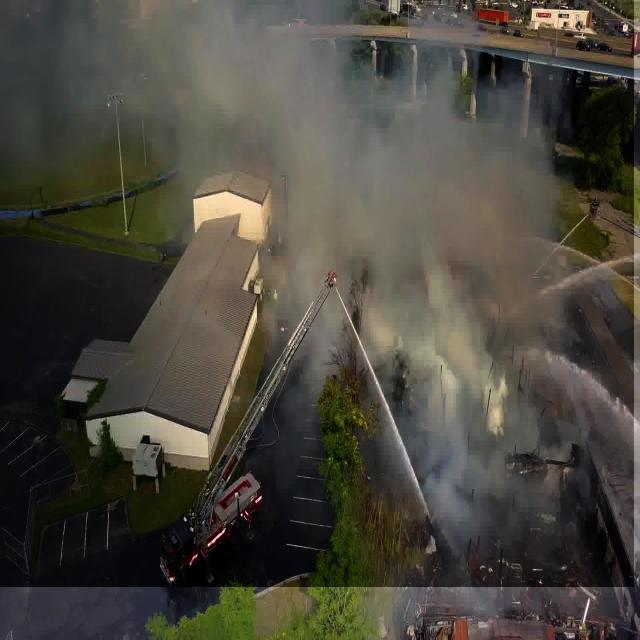Smoke: (0, 0, 634, 587)
